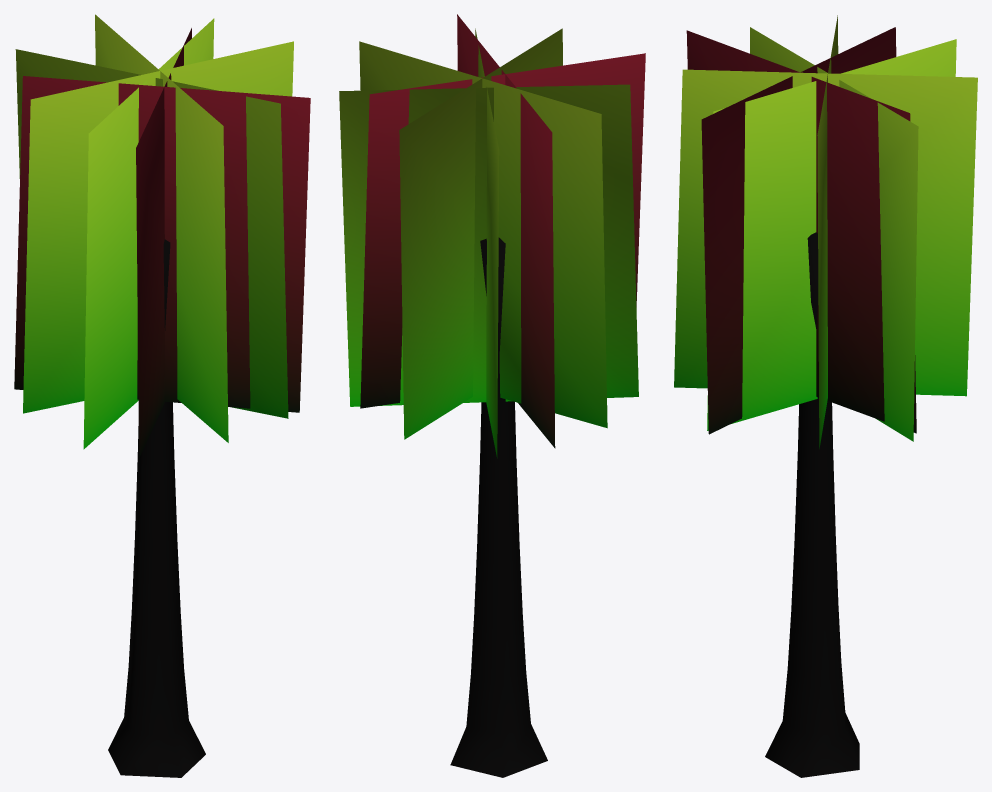
The model's file is Super_Palm_19.fbx.
The picture shows the model from 3 angles, left to right: view 1: azimuth 30°, elevation 25°; view 2: azimuth 150°, elevation 25°; view 3: azimuth 270°, elevation 25°; orthographic projection.
Visible parts, largest first — view 1: Tree_19; view 2: Tree_19; view 3: Tree_19.
Part boxes in pixels (bbox=[...]): Tree_19: bbox=[14, 14, 310, 777]; Tree_19: bbox=[339, 14, 645, 777]; Tree_19: bbox=[674, 15, 977, 777].
Size of the model in its own units: 488 by 1226 by 489.
